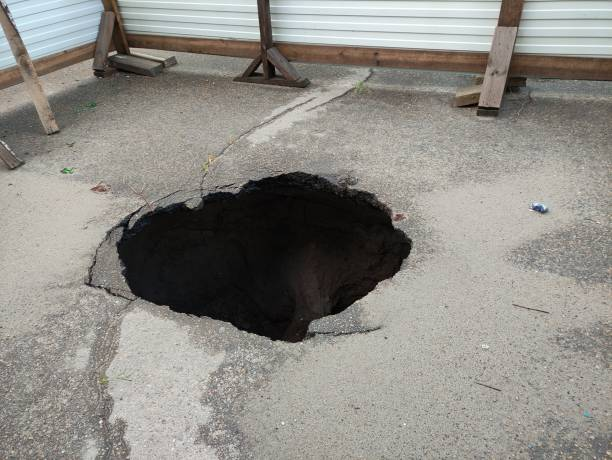potholes: (81, 159, 416, 351)
